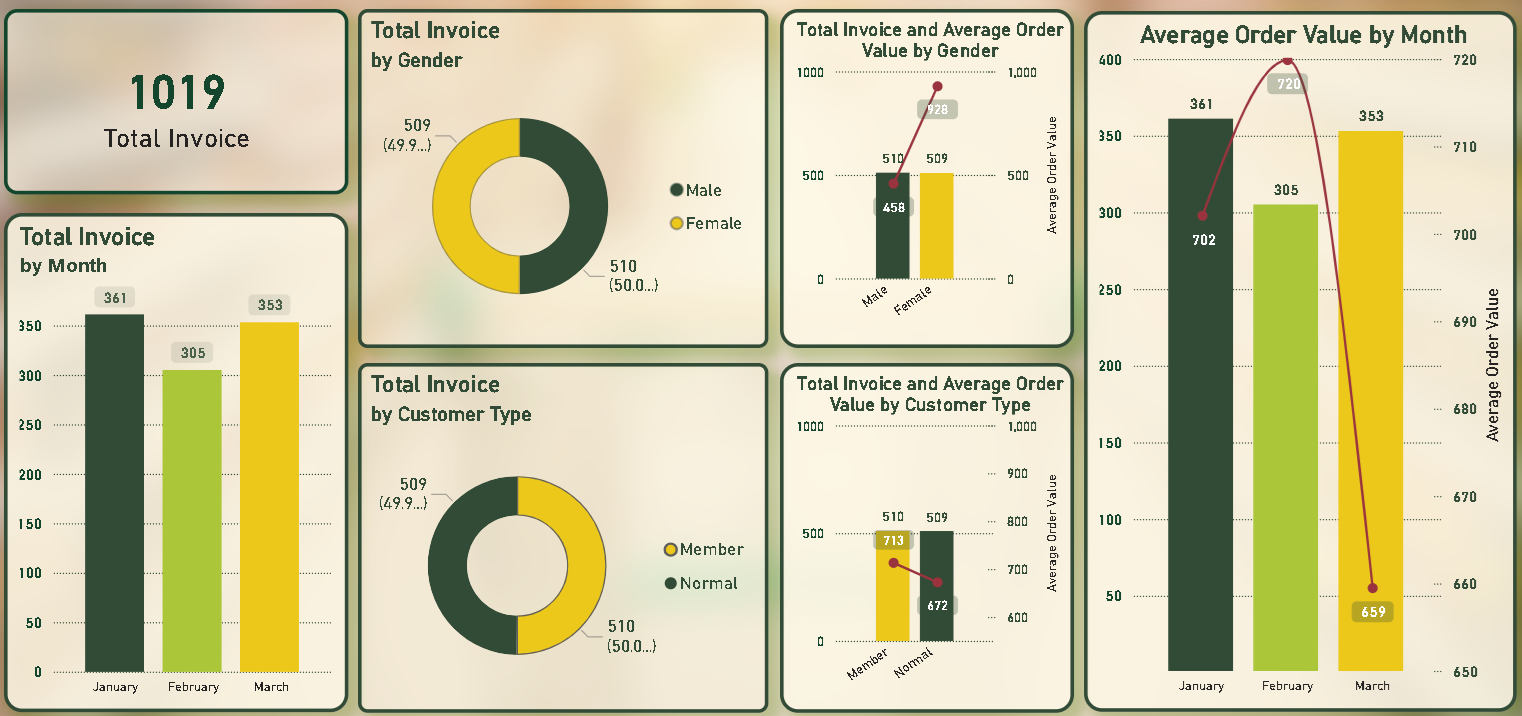

The page's visual inventory and layout, read from the dashboard file:
{"tool":"powerbi","page":{"name":"INVOICE","canvas":[1280,720],"ordinal":1},"visuals":[{"type":"textbox","box":[2.4,0,769.2,113.7],"z":0},{"type":"card","fields":{"Values":["Measure Table.Total Invoice"]},"box":[12.1,113.4,287.1,154.4],"z":1000},{"type":"columnChart","title":"Total Invoice","fields":{"Category":["Calendar.Month Name"],"Y":["Measure Table.Total Invoice"]},"box":[12.1,283.5,287.1,416.2],"z":2000},{"type":"donutChart","title":"Total Invoice","fields":{"Category":["supermarket_sales.Gender"],"Y":["Measure Table.Total Invoice"]},"box":[307.1,114,342.1,282.5],"z":3000},{"type":"donutChart","title":"Total Invoice","fields":{"Category":["supermarket_sales.Customer type"],"Y":["Measure Table.Total Invoice"]},"box":[307.1,408.2,342.1,291.6],"z":4000},{"type":"lineStackedColumnComboChart","title":"Total Invoice and Average Order Value by Gender","fields":{"Y2":["Measure Table.Average Order Value"],"Y":["Measure Table.Total Invoice"],"Category":["supermarket_sales.Gender"]},"box":[658.3,114,244.9,282.5],"z":5000},{"type":"lineStackedColumnComboChart","title":"Total Invoice and Average Order Value by Customer Type","fields":{"Y2":["Measure Table.Average Order Value"],"Y":["Measure Table.Total Invoice"],"Category":["supermarket_sales.Customer type"]},"box":[658.3,408.2,244.9,291.6],"z":6000},{"type":"lineStackedColumnComboChart","title":"Average Order Value by Month","fields":{"Y2":["Measure Table.Average Order Value"],"Y":["Measure Table.Total Invoice"],"Category":["Calendar.Month Name"]},"box":[910.9,115.8,360.7,583.9],"z":7000}]}

Visuals, with their boxes on the page's 1280x720 design canvas (x1, y1, x2, y2). These are canvas units, not pixel positions in the 1522x716 screenshot, which may show the page scaled, cropped or inside an application window:
textbox: (left=2, top=0, right=772, bottom=114)
card - Measure Table.Total Invoice: (left=12, top=113, right=299, bottom=268)
"Total Invoice" columnChart: (left=12, top=284, right=299, bottom=700)
"Total Invoice" donutChart: (left=307, top=114, right=649, bottom=396)
"Total Invoice" donutChart: (left=307, top=408, right=649, bottom=700)
"Total Invoice and Average Order Value by Gender" lineStackedColumnComboChart: (left=658, top=114, right=903, bottom=396)
"Total Invoice and Average Order Value by Customer Type" lineStackedColumnComboChart: (left=658, top=408, right=903, bottom=700)
"Average Order Value by Month" lineStackedColumnComboChart: (left=911, top=116, right=1272, bottom=700)
